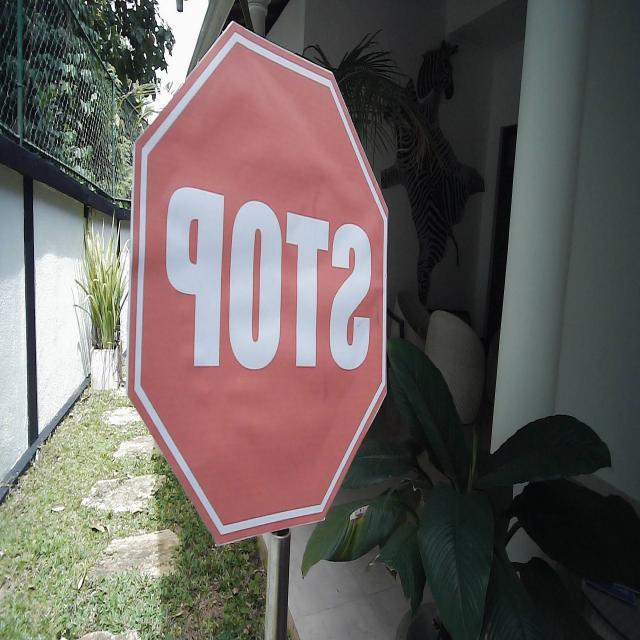stop: (125, 17, 390, 550)
